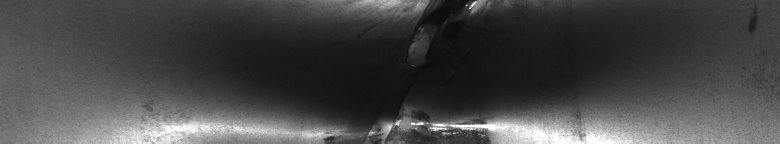ke: (332, 4, 507, 136)
